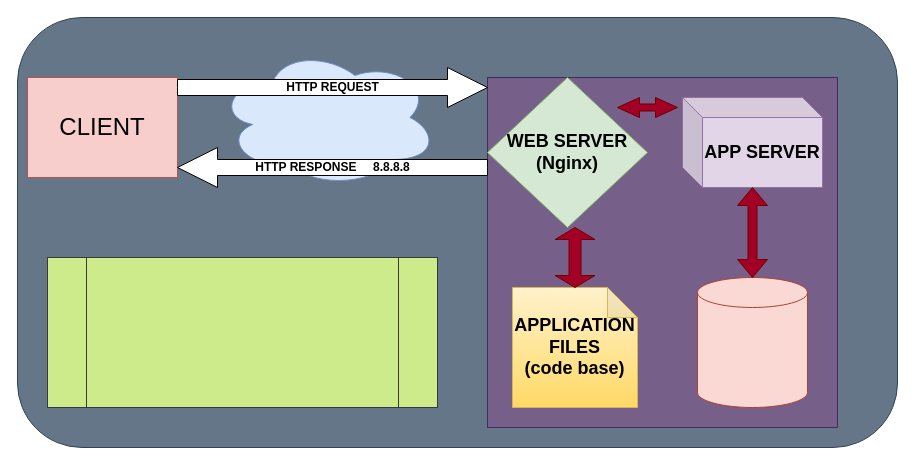
Image size: 915x465. Some labels were removed from this diagram. Each missing label, with the box of its shape:
DATA BASE (MYSQL): (696, 276, 808, 408)
DNS RECORD: foobar.com IN A 8.8.8.8 WWW IN CNAME foobar.com: (46, 256, 438, 408)
INTERNET: (216, 46, 438, 188)
